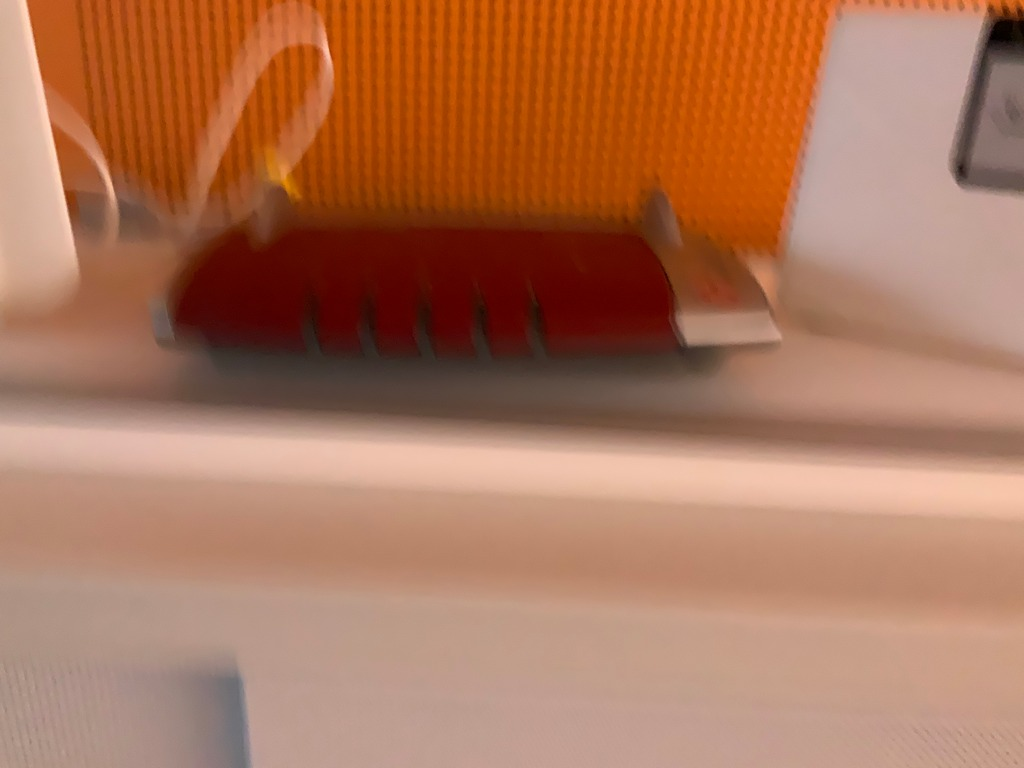Router2: (785, 1, 1024, 339)
router3: (155, 191, 792, 381)
